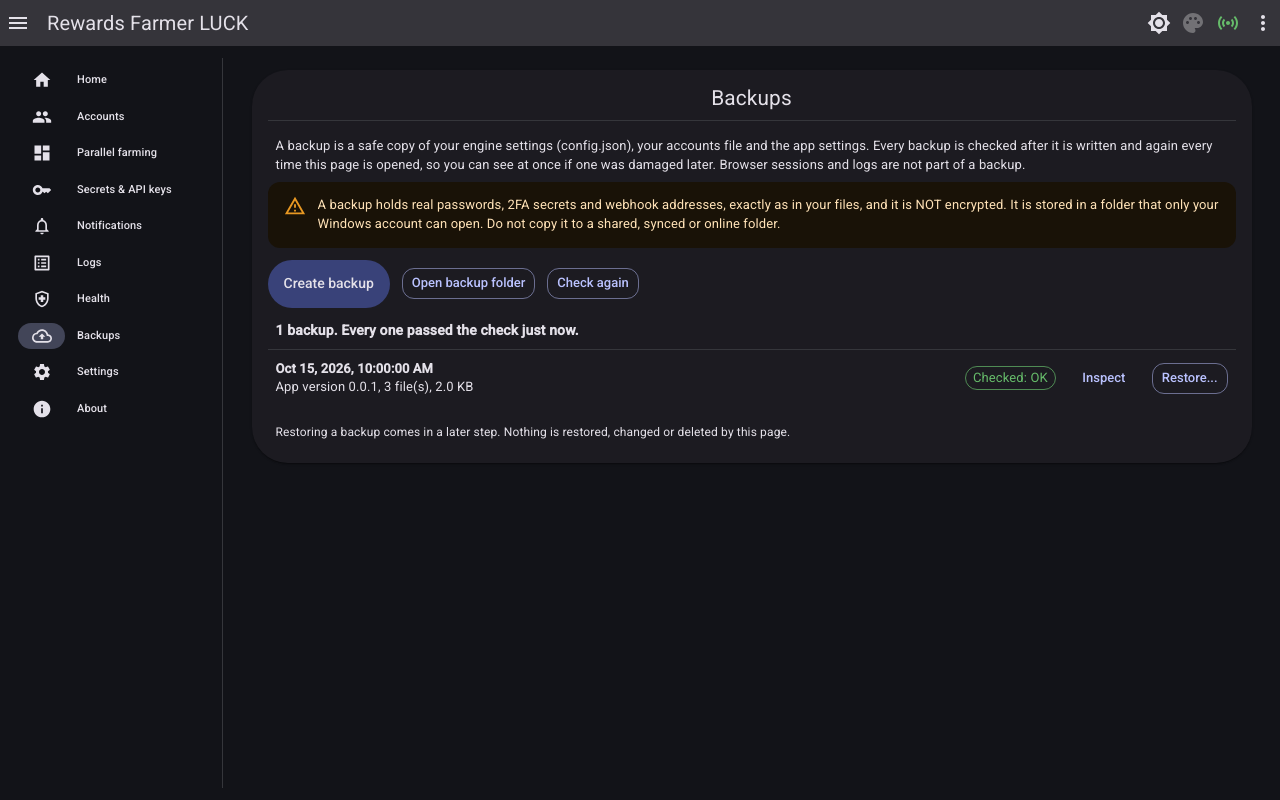
Scenario: Restore window (stand-in bridge) › shows the plan per file in a fixed order, the safety note and that nothing was changed
Step 1. Click the button with aria-label "Restore backup from" → (1190, 378), box [1152,363,1228,394]
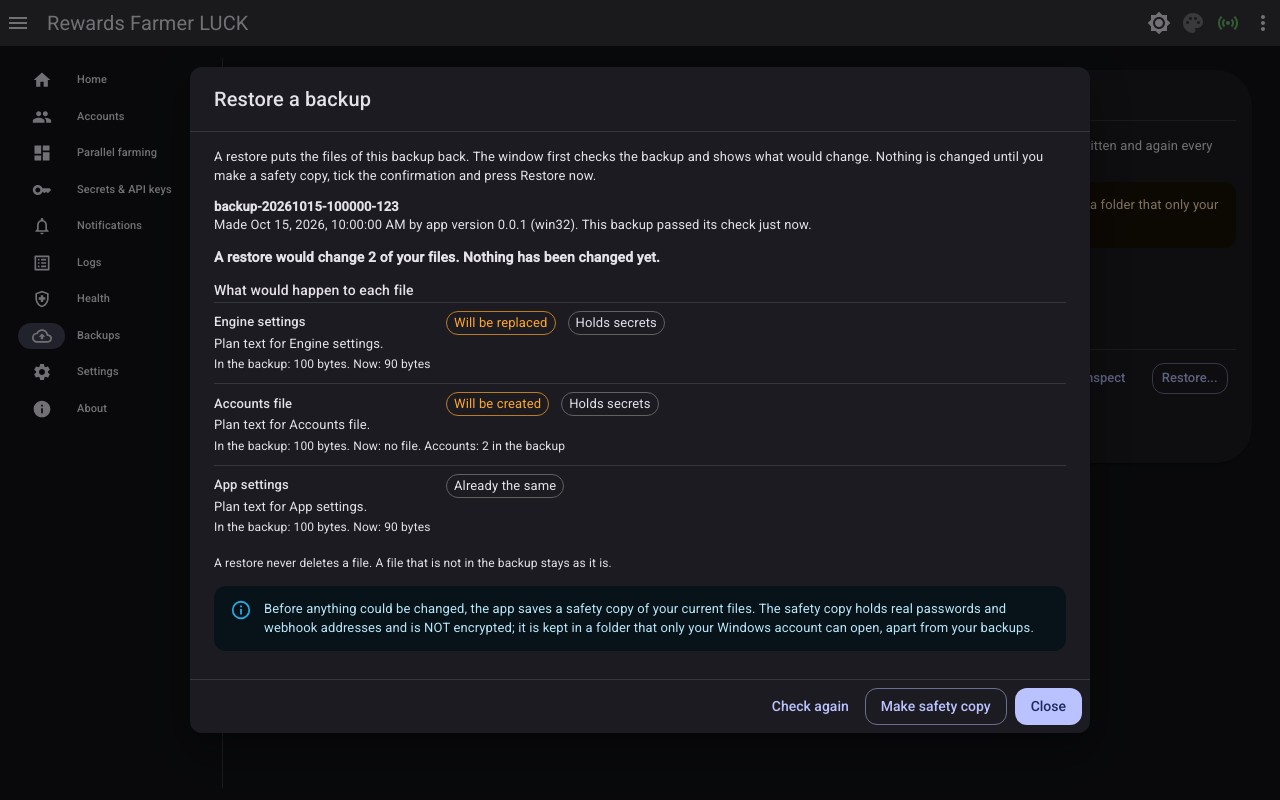
Now the element with test id "restore-preview" is shown, box [214,198,1066,651]
Now the message with test id "restore-summary" reads "A restore would change 2 of your files. Nothing has been changed yet.", box [214,249,660,265]
Now the element with test id "restore-action-engine-config" reads "Will be replaced", box [454,315,548,330]
